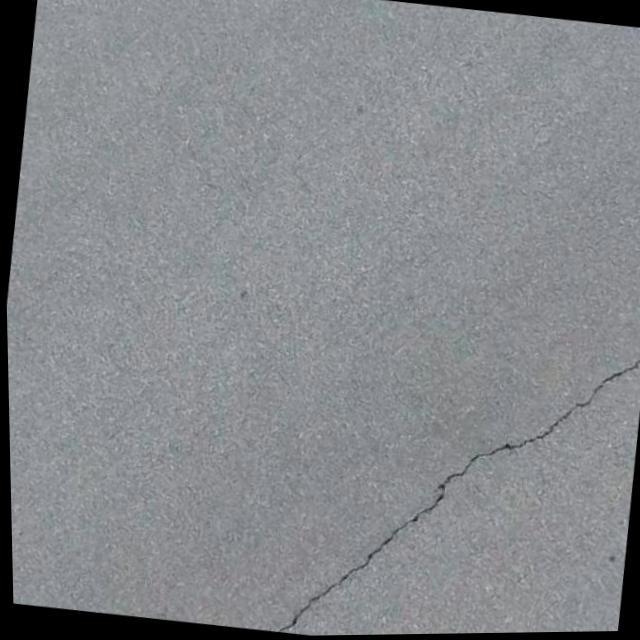Crack: (274, 303, 640, 637)
